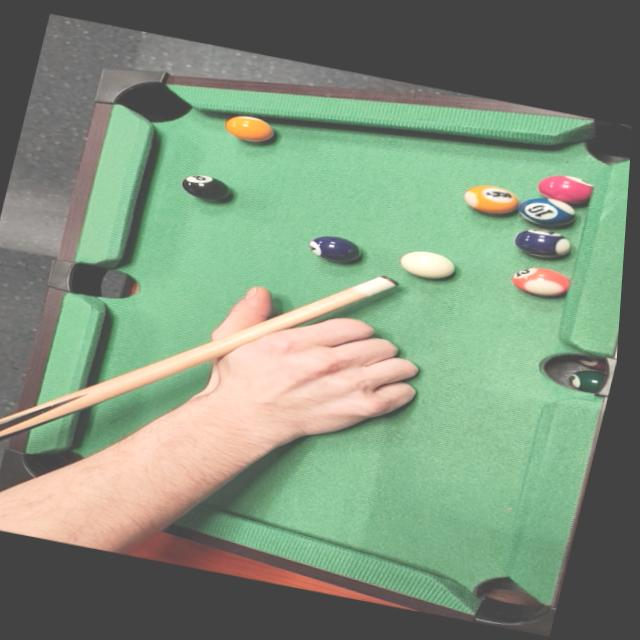cue ball: (392, 243, 462, 284)
other: (512, 191, 583, 233), (533, 168, 599, 212), (454, 179, 523, 220), (508, 261, 574, 302), (512, 225, 579, 264), (218, 110, 276, 147), (302, 230, 361, 264), (176, 171, 231, 204)
